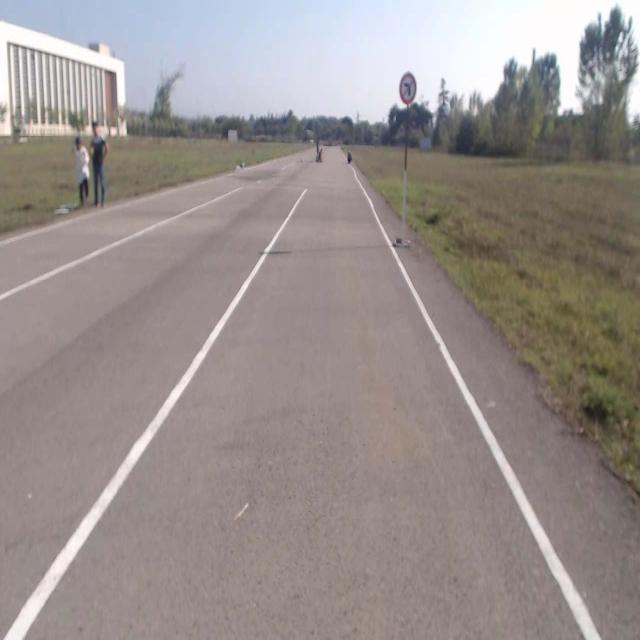soladonulmez: (399, 74, 417, 104)
